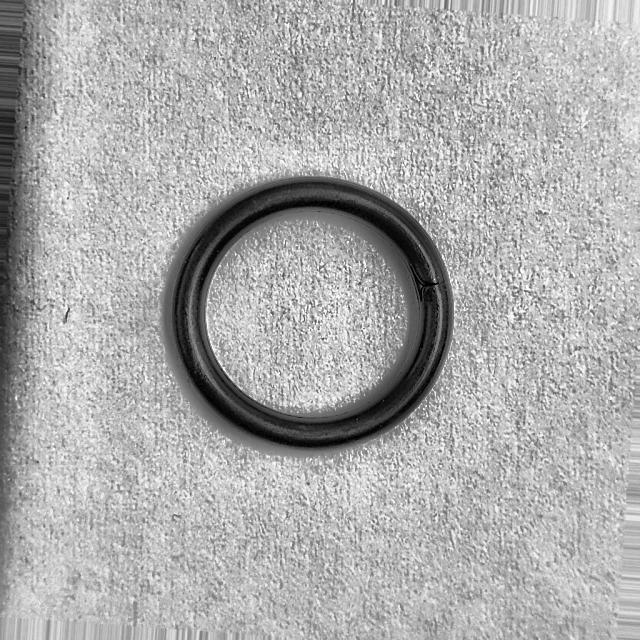切割缺陷: (407, 262, 446, 304)
